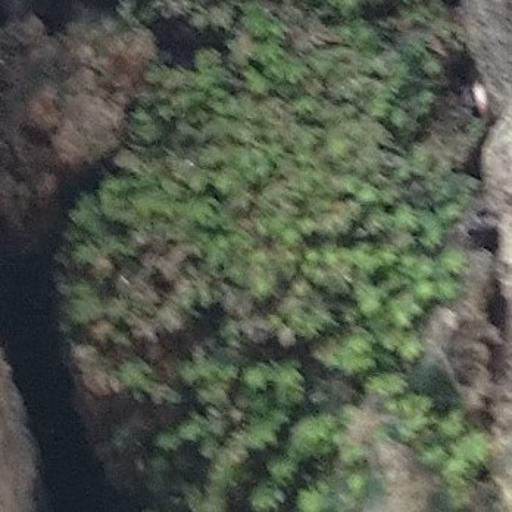algae: (79, 8, 484, 500)
